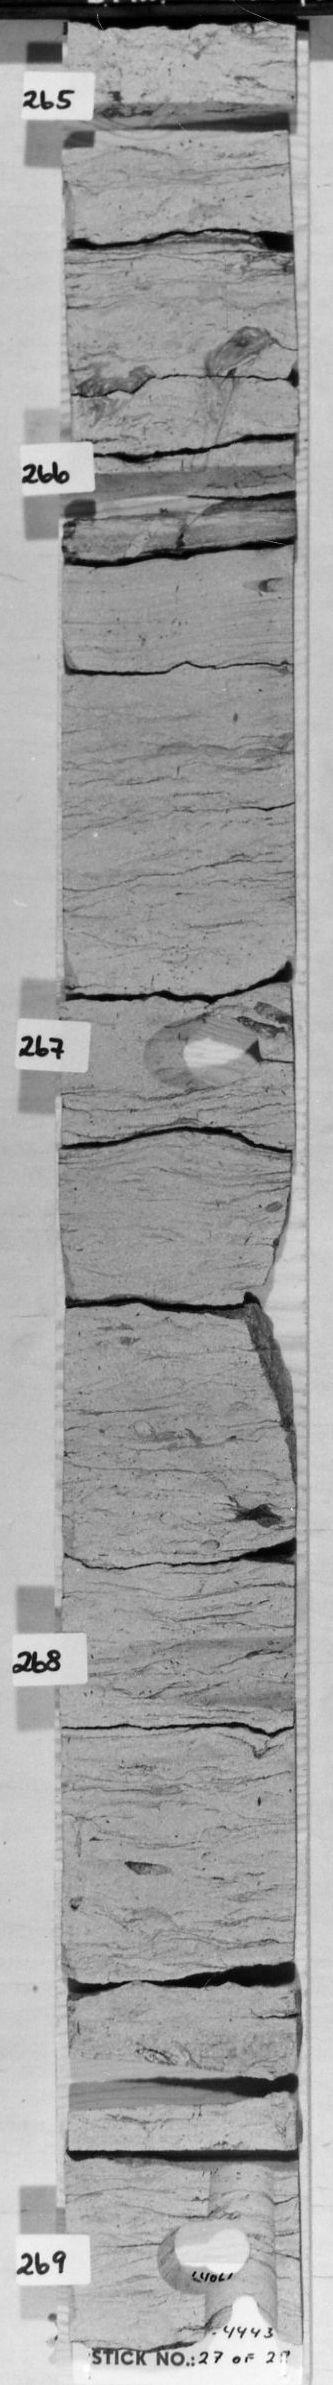hplug: (106, 1618, 297, 1729), (73, 2037, 287, 2133), (68, 94, 290, 170), (70, 465, 293, 540), (137, 1008, 275, 1104), (132, 2204, 255, 2298)
vplug: (201, 2160, 286, 2342)
